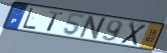5: (63, 12, 87, 37)
9: (101, 19, 126, 42)
L: (21, 6, 37, 31)
N: (77, 14, 109, 41)
T: (45, 11, 65, 33)
X: (119, 21, 148, 47)
